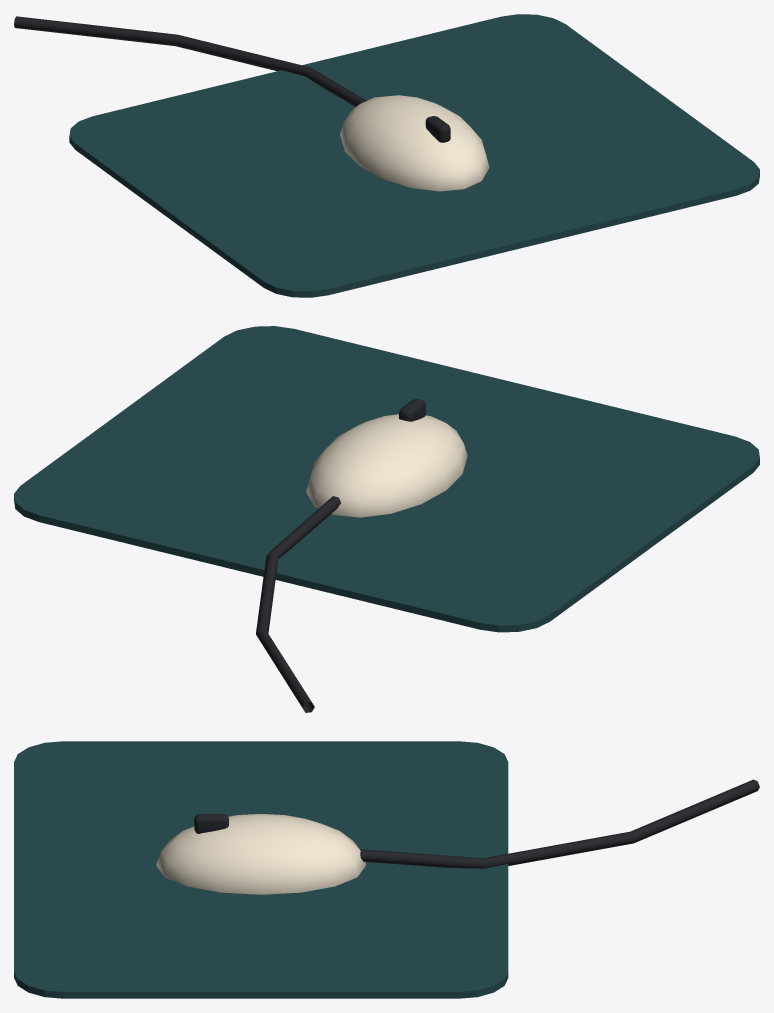
The model's file is RmMouse.fbx.
3 renders of one model, top to bottom at view 1: azimuth 30°, elevation 25°; view 2: azimuth 150°, elevation 25°; view 3: azimuth 270°, elevation 25°, orthographic. The views are drawn at different scales.
Visible parts, largest first — view 1: RmMouseBody; view 2: RmMouseBody; view 3: RmMouseBody.
Boxes of the visible parts, x1,y1,x2,y2 form: RmMouseBody: (14, 14, 759, 297); RmMouseBody: (14, 326, 759, 712); RmMouseBody: (14, 741, 759, 998).
Bounding box in the file's own units: 0.24 × 0.0407 × 0.3018.
